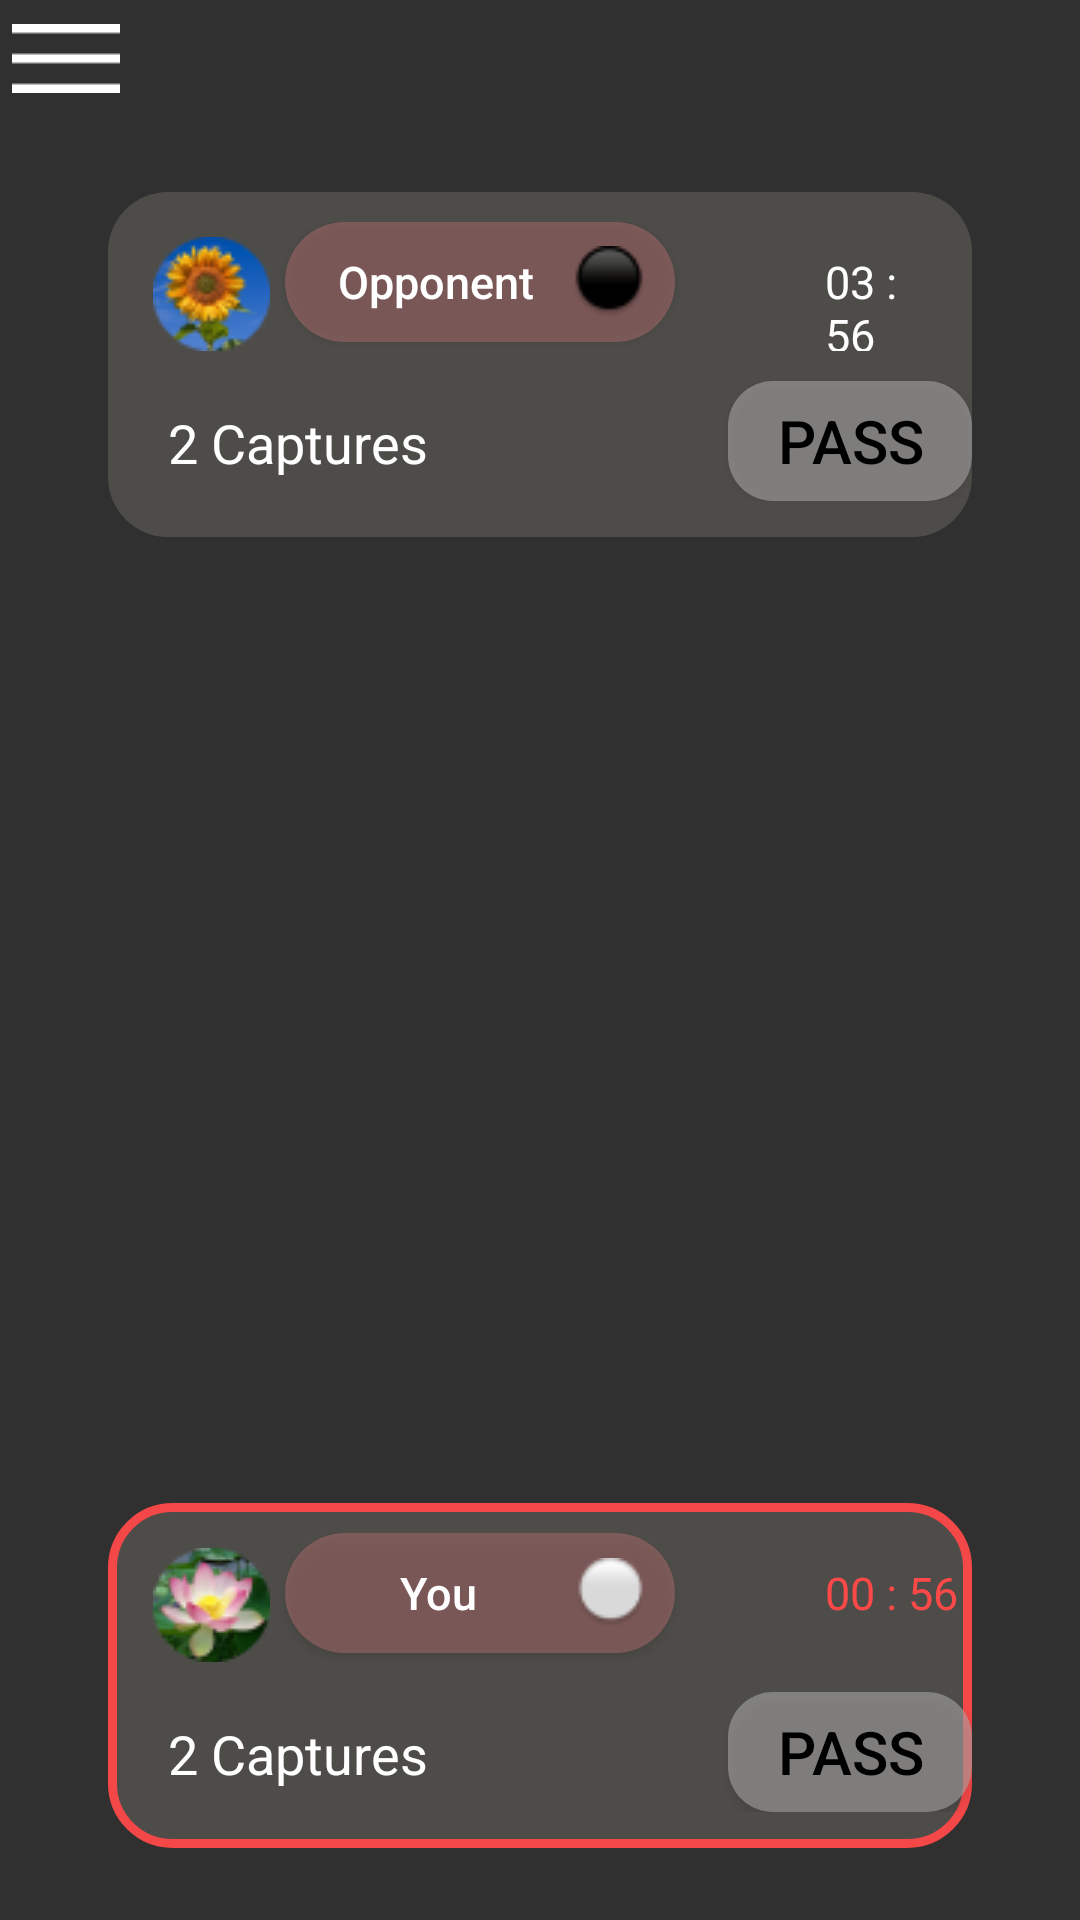

Icons on this 1080x1920 Android screen, each with the point to tap as point (x, y):
Menu Button: point (66, 58)
User Profile Picture: point (211, 1605)
